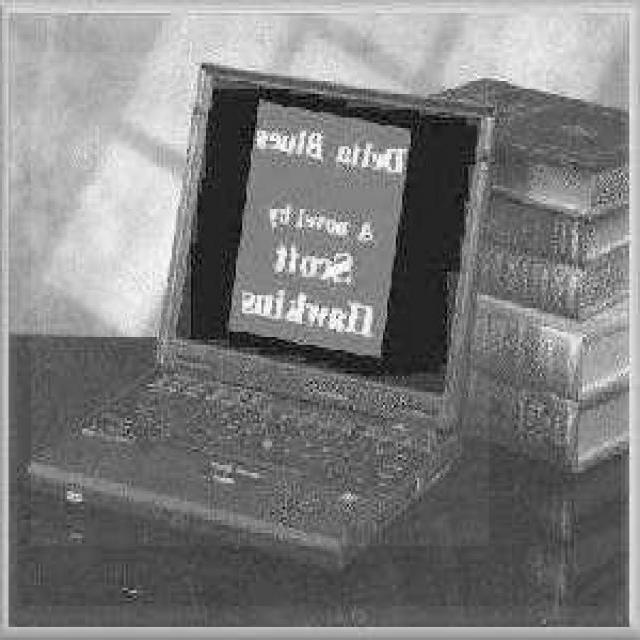-keyboard-: (32, 52, 490, 546)
